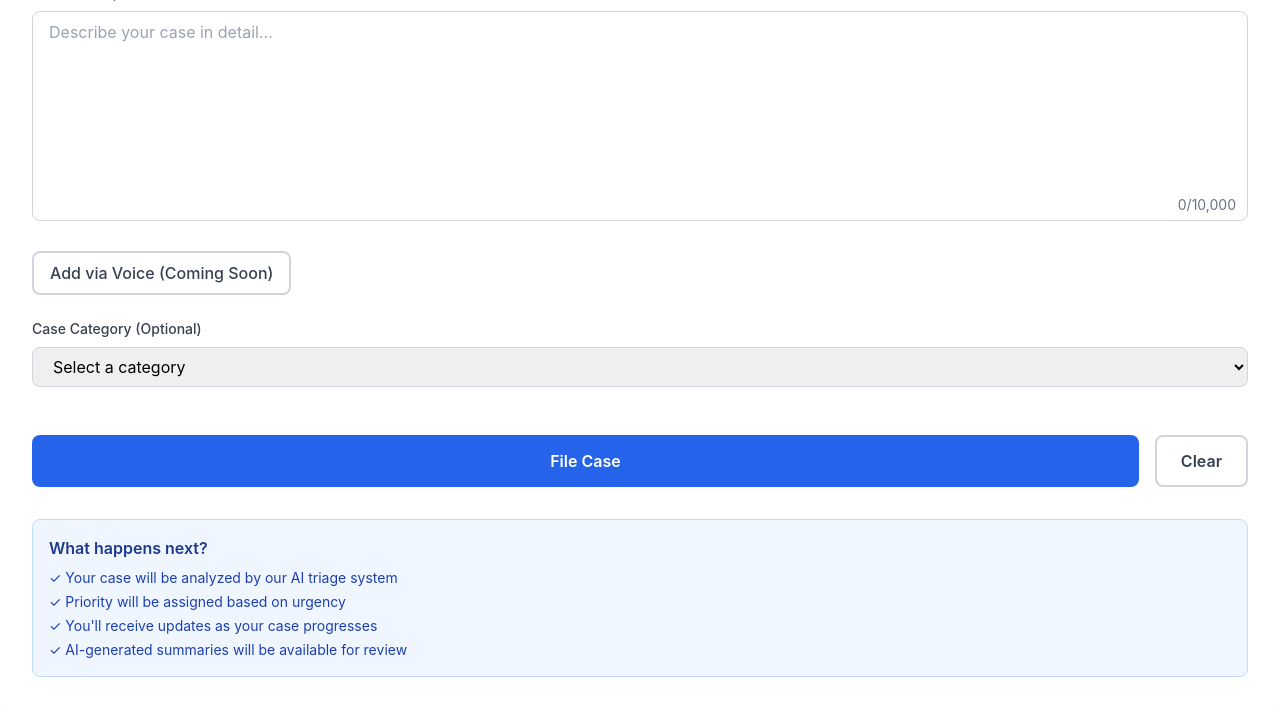
Test case: CaseForm › should display validation error when title is empty
(page scrolled)
Click the button "File Case".
click(585, 461)  # box [32,435,1139,487]
(page scrolled)
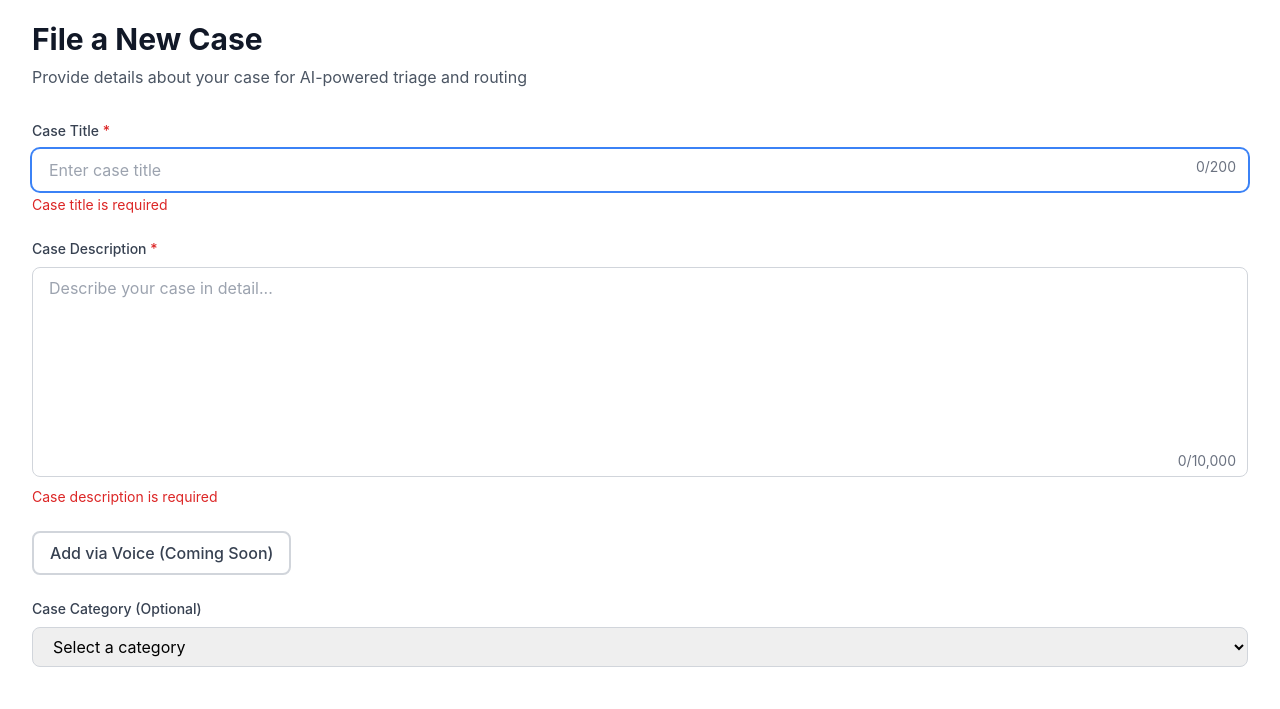
Result: the text "Case title is required" is shown at [32,196,168,213]
